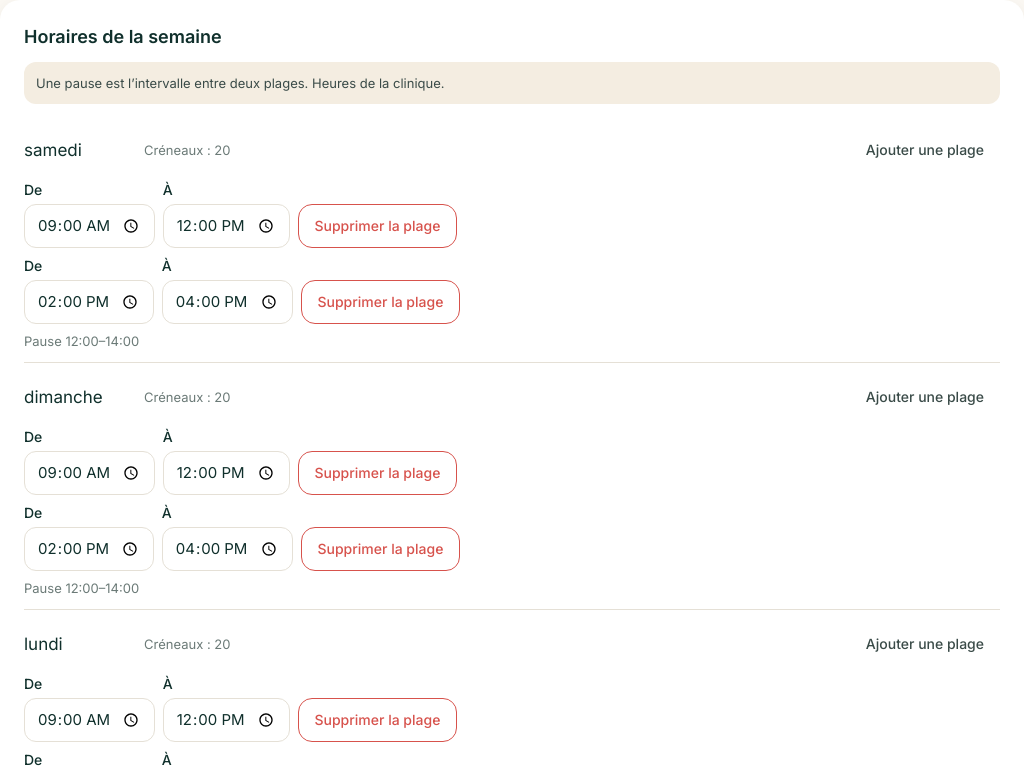
Availability page › saves the edited week
This screenshot has width=1024, height=768.
Replace the text in the time field named "De · lundi 1" with "10:00": (89, 720) [24,698,155,742]
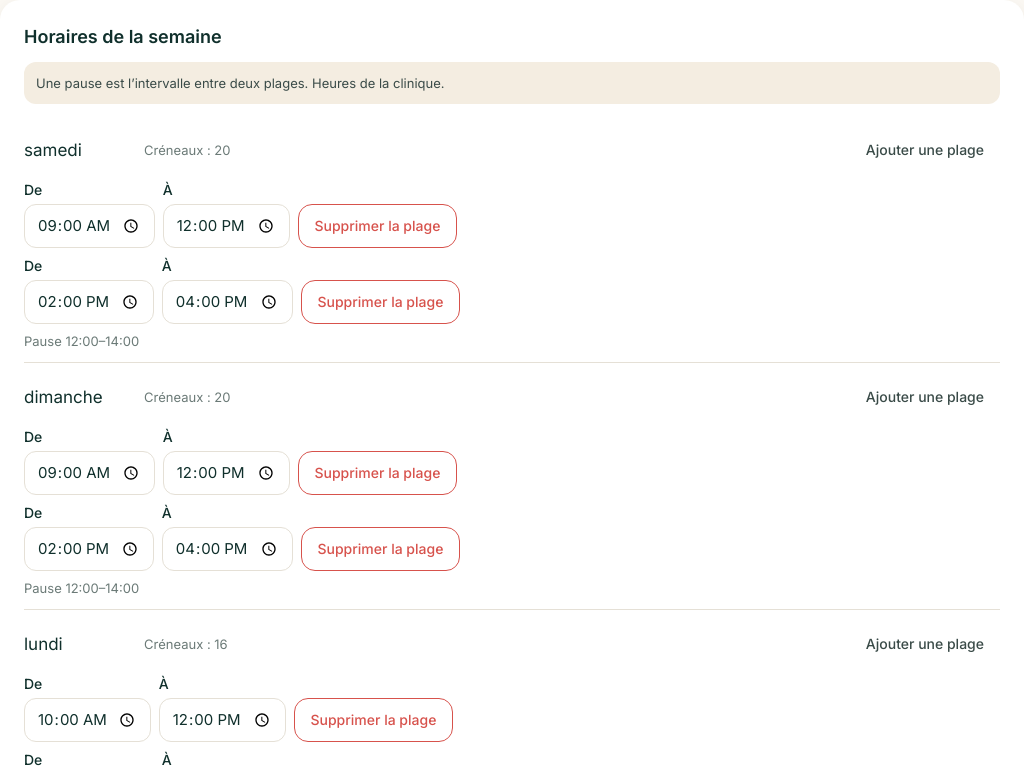
Click the button with aria-label "Supprimer la plage · samedi 2": (380, 302) [300,280,460,324]
(page scrolled)
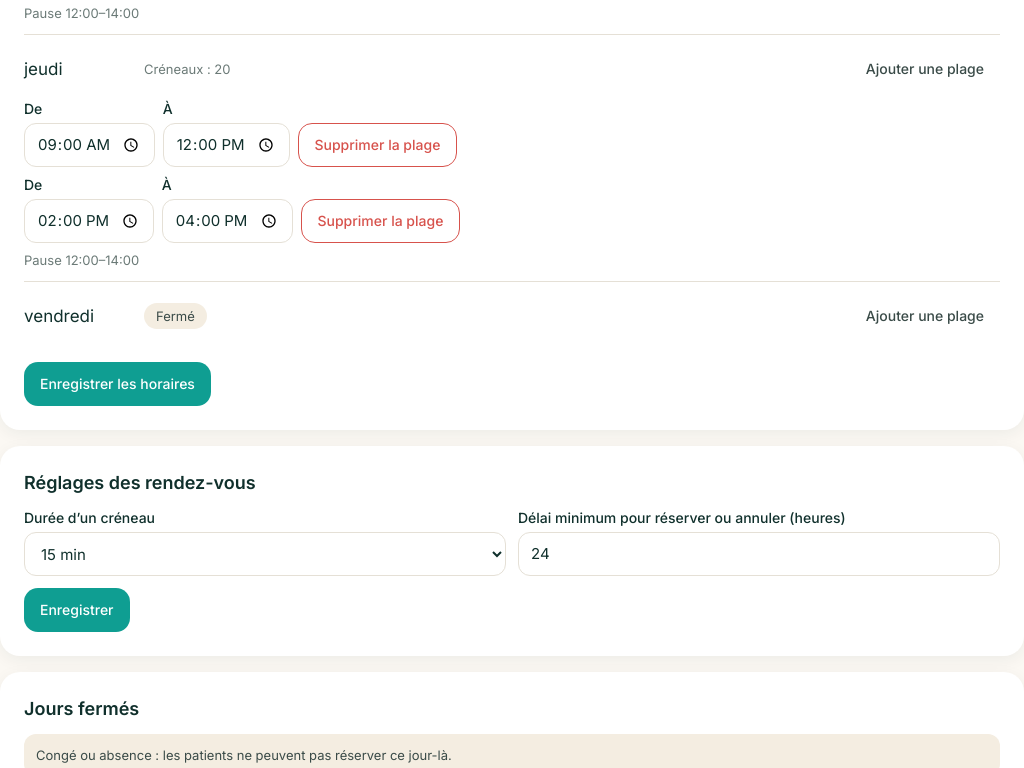
Click the button "Enregistrer les horaires": (117, 384) [24,362,211,406]
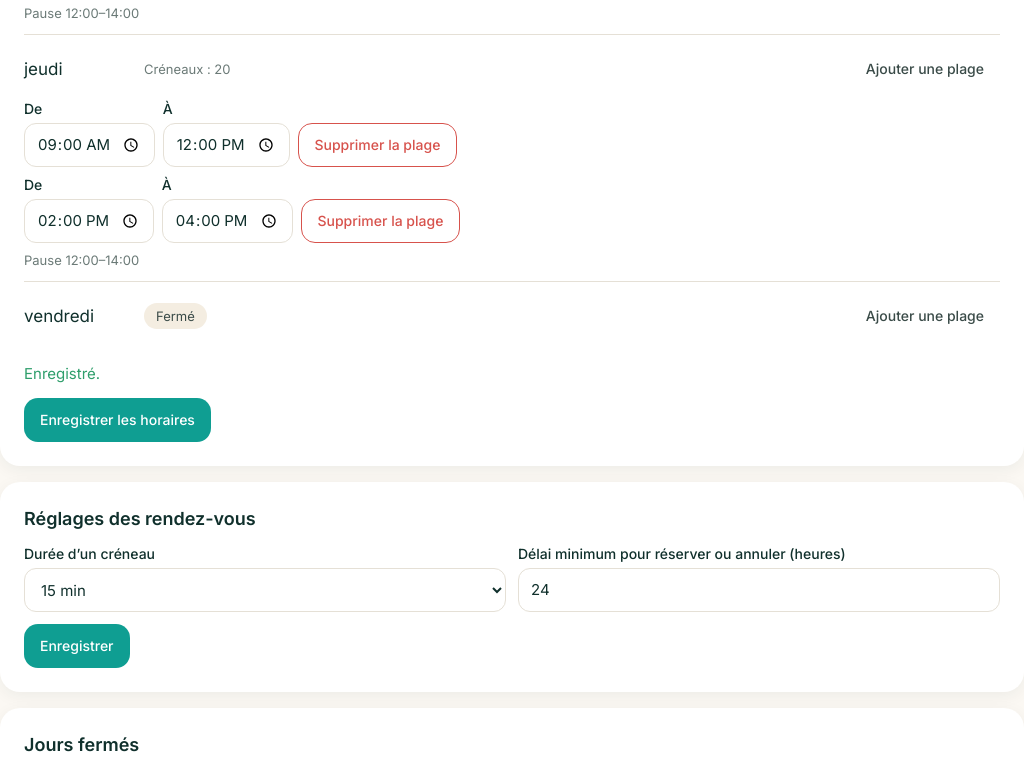
Expected: the message reads "Enregistré.", [24,364,100,383]
